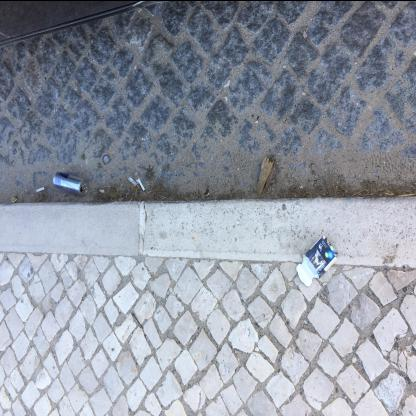karton: (296, 234, 338, 286)
metal: (52, 170, 89, 196)
